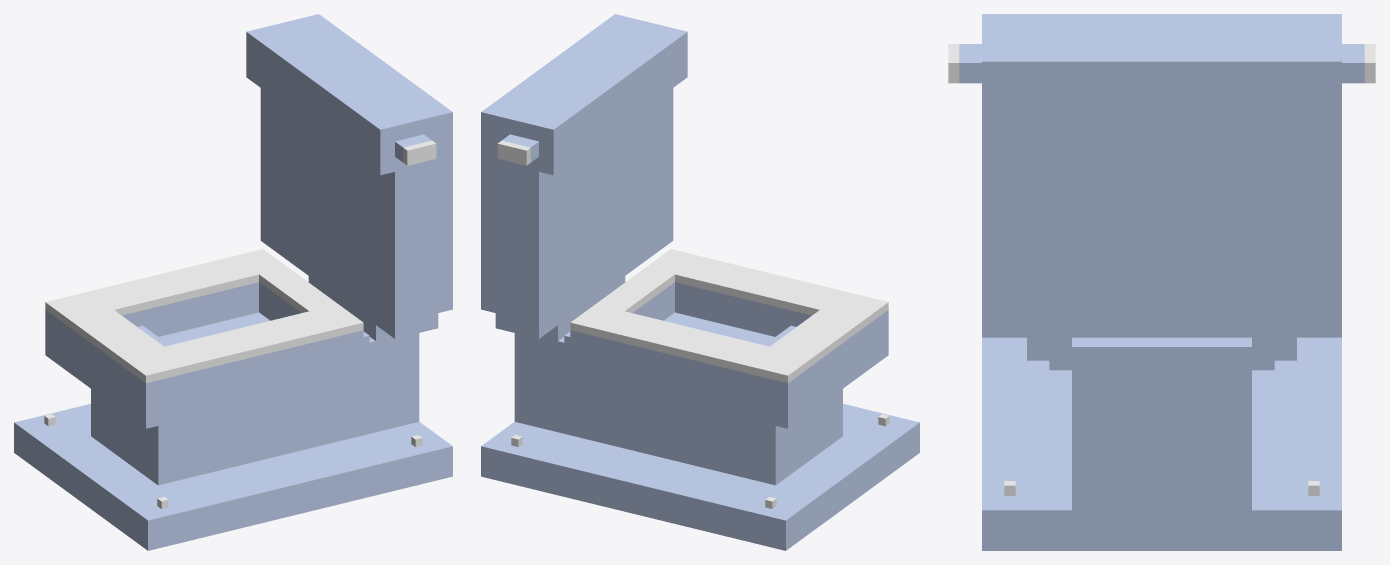
Rendered from toilet.obj.
The picture shows the model from 3 angles, left to right: view 1: azimuth 30°, elevation 25°; view 2: azimuth 150°, elevation 25°; view 3: azimuth 270°, elevation 25°; orthographic projection. The views are drawn at different scales.
Visible parts, largest first — view 1: toilet; view 2: toilet; view 3: toilet.
Part boxes in pixels (x1,y1,x2,y2): toilet: [14, 14, 452, 550]; toilet: [481, 14, 919, 550]; toilet: [948, 14, 1375, 550].
Size of the model in its own units: 42 by 48 by 38.
1 material, 1 textured.
